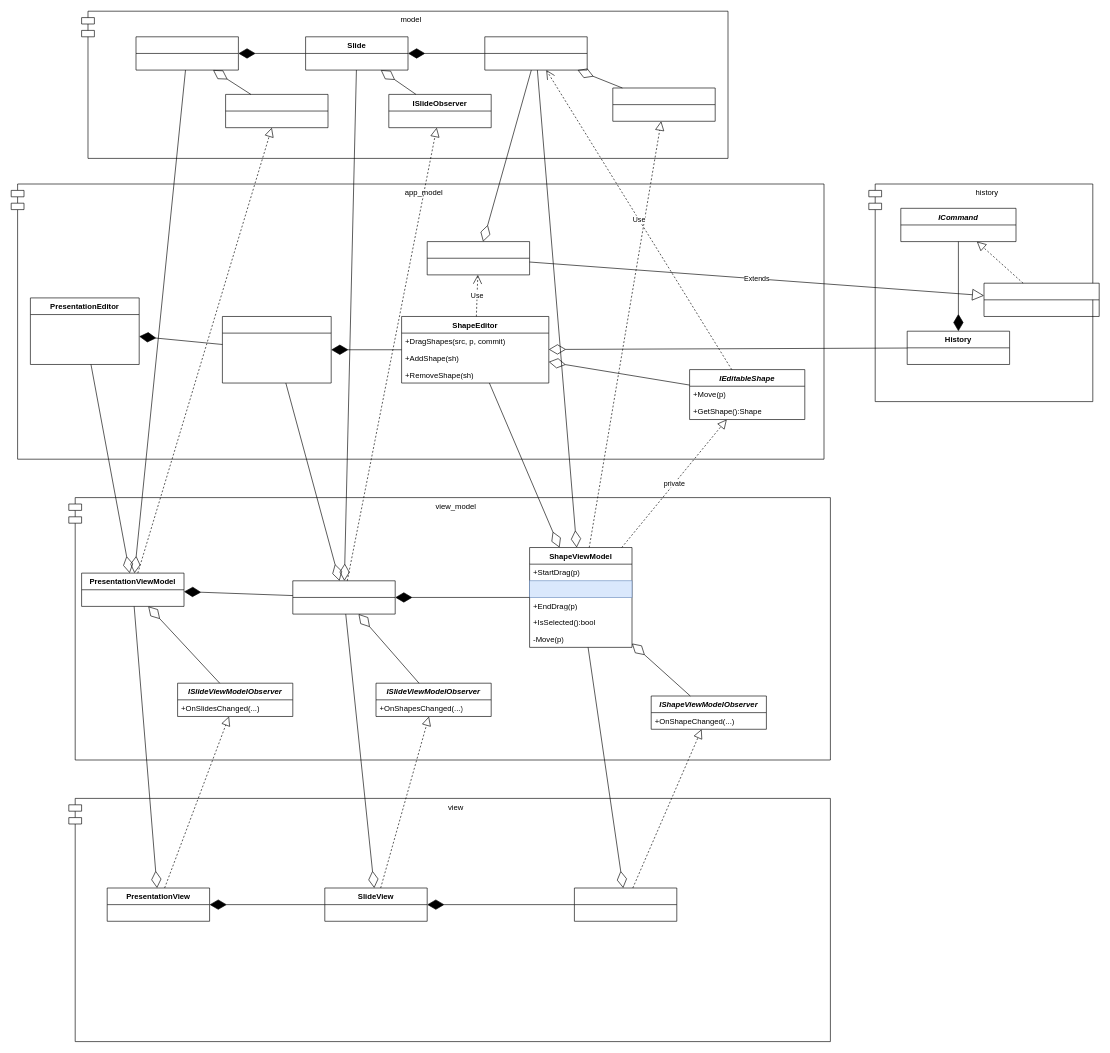
Some shapes in this 1110 by 1053 pixel diagram are drawn without their labels. The shapes that lost their labels are listed below. From the top down, each one's centre as x and y in pixels, then its label:
At pixel 186 53: "Presentation".
At pixel 535 53: "Shape".
At pixel 276 111: "IPresentationObserver".
At pixel 663 104: "IShapeObserver".
At pixel 478 258: "ShapeEditCommand".
At pixel 1041 299: "CommandImpl".
At pixel 276 349: "SlideEditor".
At pixel 343 597: "SlideViewModel".
At pixel 580 588: "+Drag(p)".
At pixel 625 904: "ShapeView".
